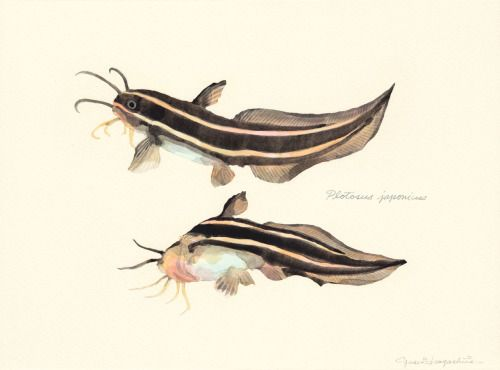gonzui: (63, 59, 406, 184), (108, 189, 421, 313)
